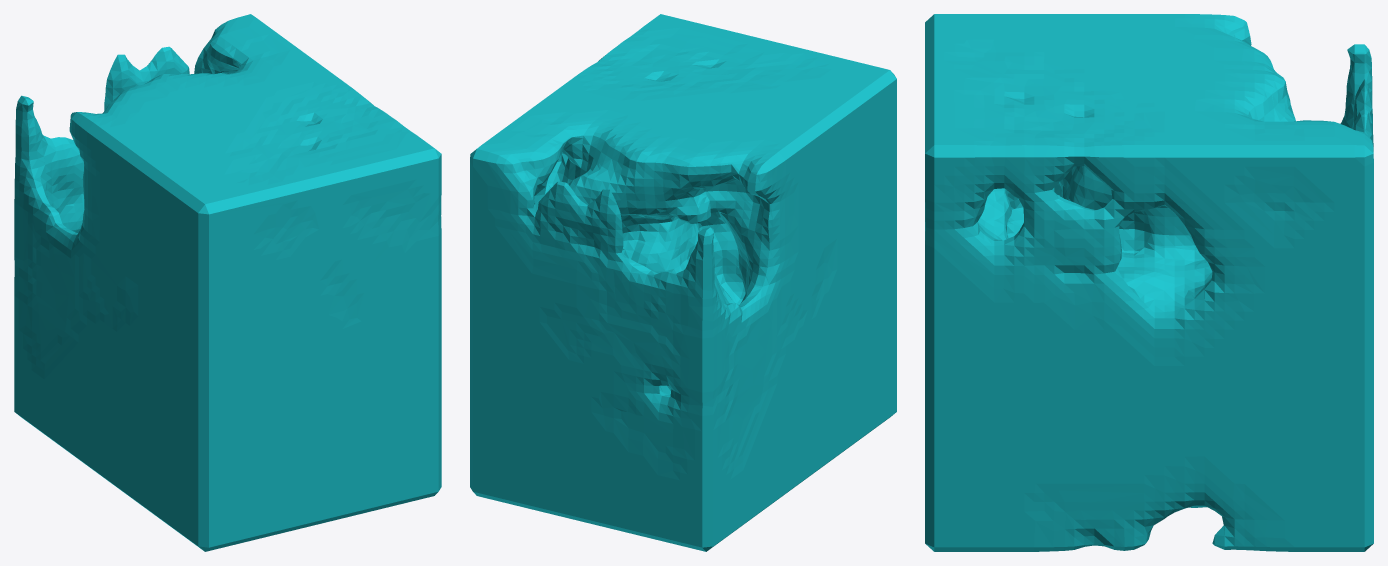
3 views of the same model, side by side, from view 1: azimuth 30°, elevation 25°; view 2: azimuth 150°, elevation 25°; view 3: azimuth 270°, elevation 25° (orthographic). The views are drawn at different scales.
Parts seen in each view (by area): view 1: Liquid_Domain; view 2: Liquid_Domain; view 3: Liquid_Domain.
Part boxes in pixels (left/top/right/bottom): Liquid_Domain: left=14, top=14, right=441, bottom=551; Liquid_Domain: left=470, top=14, right=896, bottom=551; Liquid_Domain: left=925, top=14, right=1373, bottom=551.
Size of the model in its own units: 79.09 by 108 by 108.
